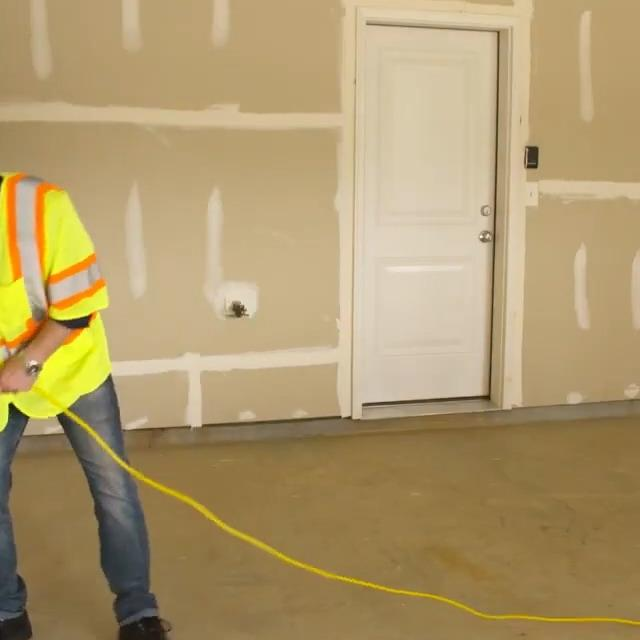Person: (0, 124, 188, 640)
Safety Vest: (0, 171, 108, 435)
